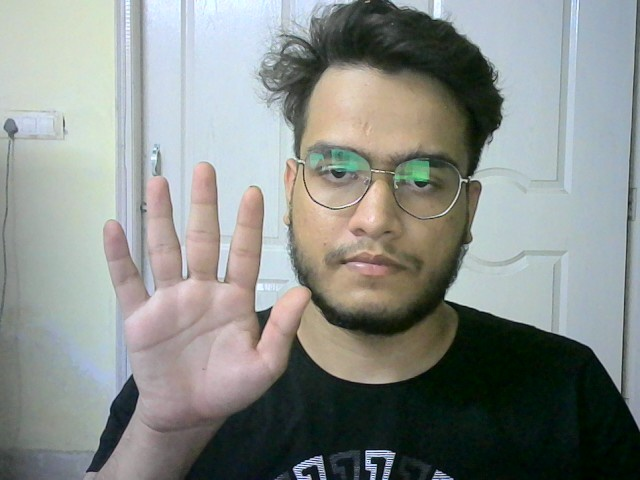Hello: (97, 161, 317, 442)
